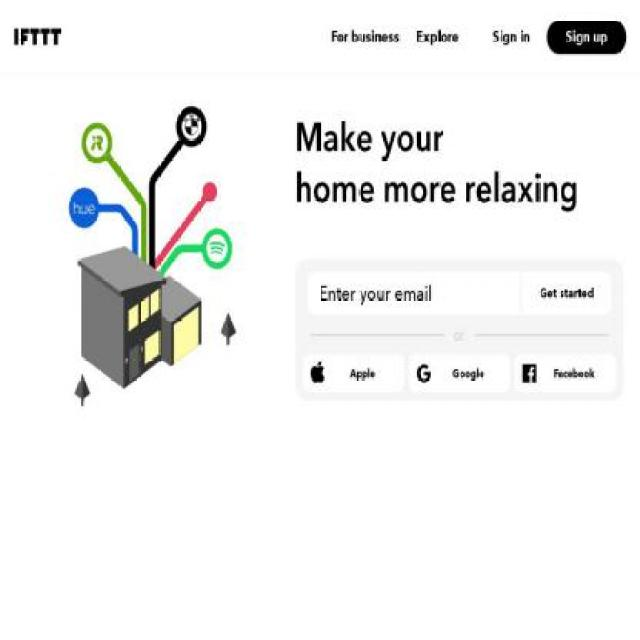button: (303, 353, 405, 393), (408, 353, 510, 393), (515, 353, 616, 393), (546, 19, 626, 55), (475, 22, 547, 52), (14, 27, 61, 47)
field: (308, 272, 520, 314), (520, 272, 612, 314)
